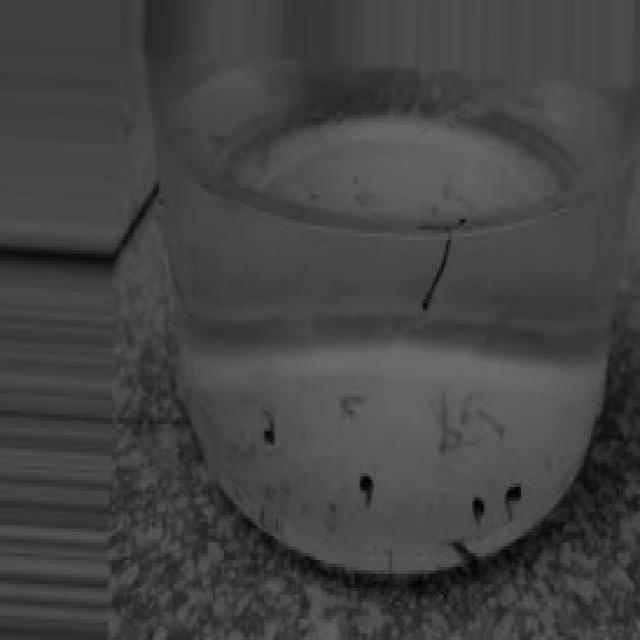larvas: (420, 232, 450, 310), (449, 533, 474, 568), (340, 394, 367, 424), (460, 389, 484, 421), (261, 407, 277, 451), (478, 410, 503, 436), (438, 394, 449, 452), (506, 483, 522, 518), (359, 472, 374, 504), (471, 493, 484, 528)
